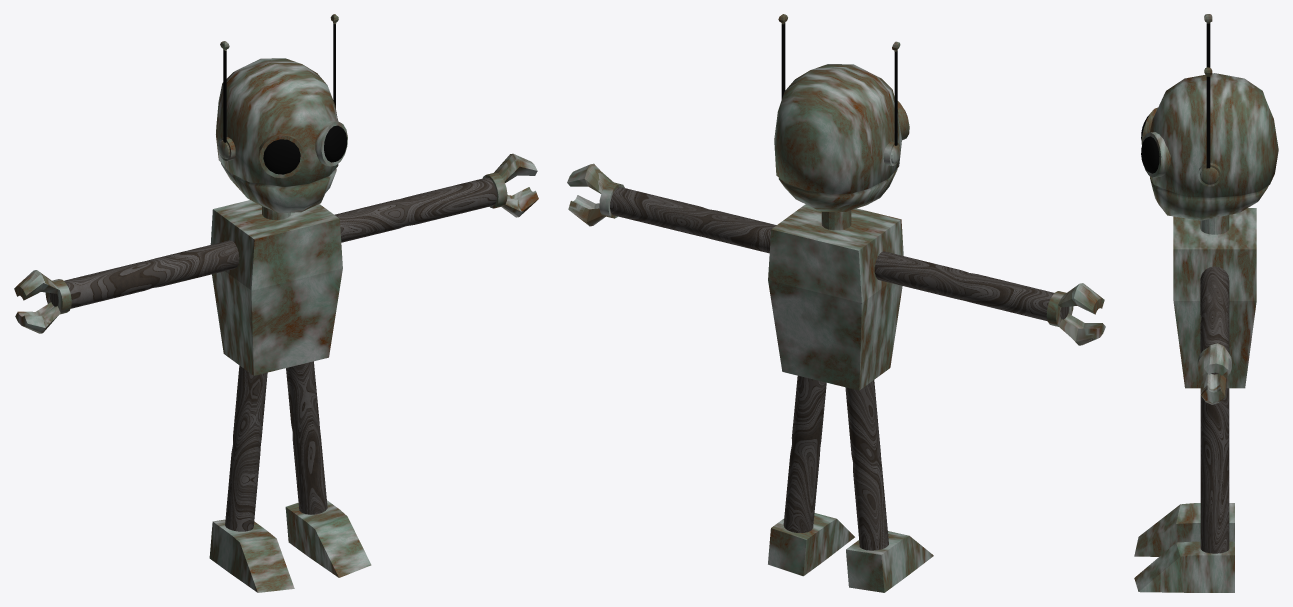
File: enemy_character_1.fbx
The picture shows the model from 3 angles, left to right: view 1: azimuth 30°, elevation 25°; view 2: azimuth 150°, elevation 25°; view 3: azimuth 270°, elevation 25°; orthographic projection. The views are drawn at different scales.
Visible parts, largest first — view 1: Robo1; view 2: Robo1; view 3: Robo1.
Boxes of the visible parts, box(x1,y1,x2,y2) form: Robo1: box(14, 14, 538, 592); Robo1: box(567, 14, 1105, 592); Robo1: box(1134, 14, 1278, 592).
Bounding box in the file's own units: 1.97 × 1.94 × 0.4828.
